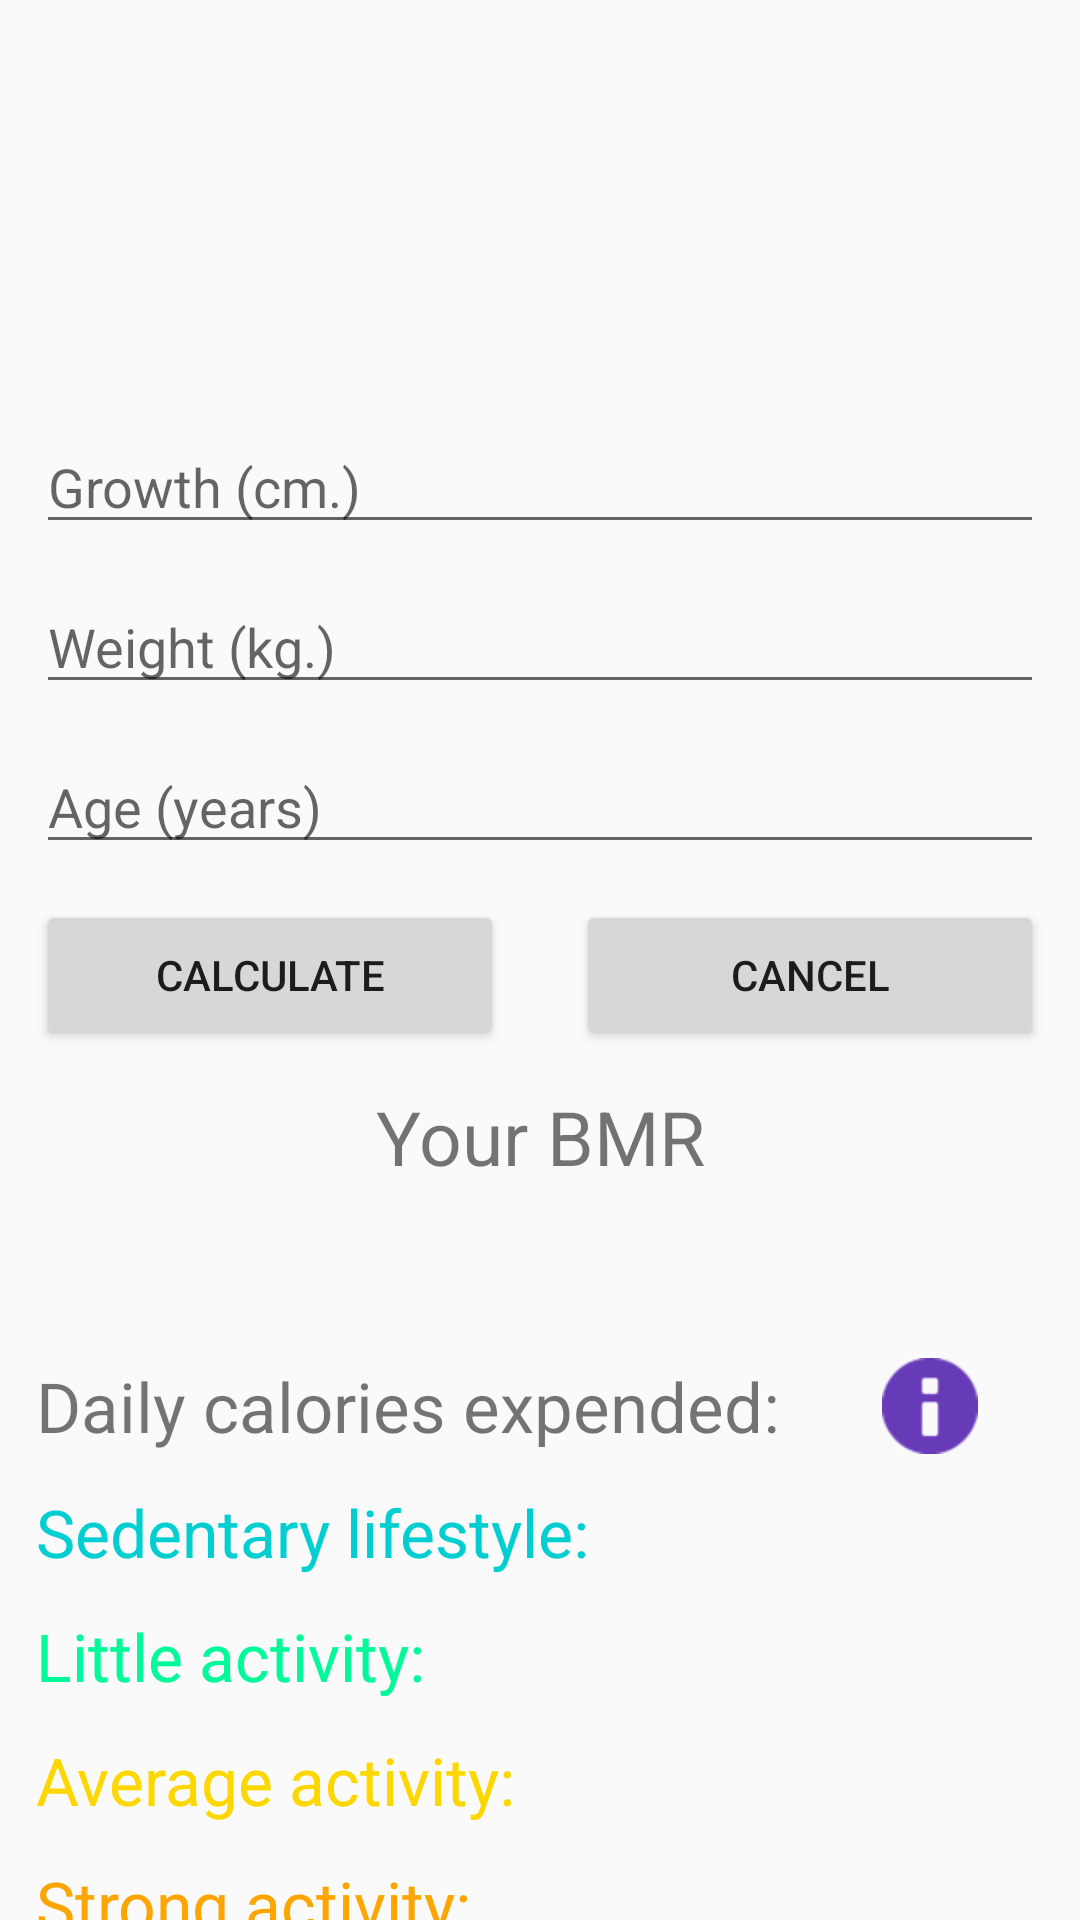

Locate icon controls on the screen. Image size 1080px×1920px, boxes as (x1, y1, x2, y2).
info: (882, 1358, 978, 1454)
